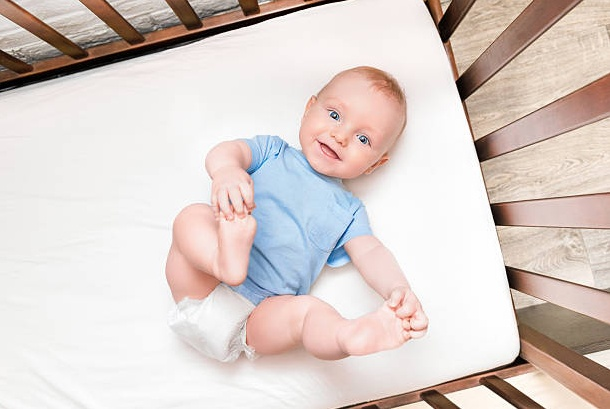baby: (166, 67, 427, 361)
crib: (0, 0, 609, 407)
